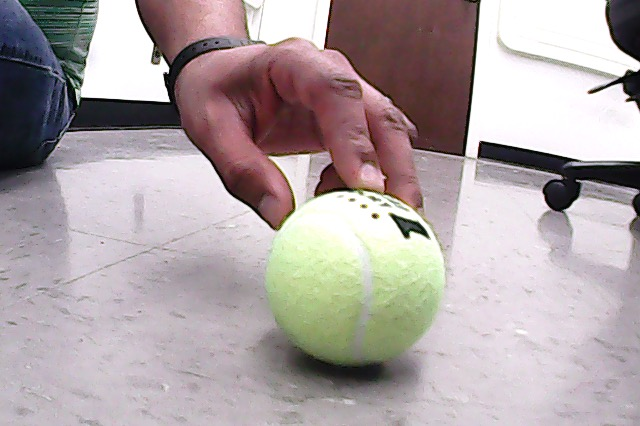ball: (259, 186, 451, 373)
